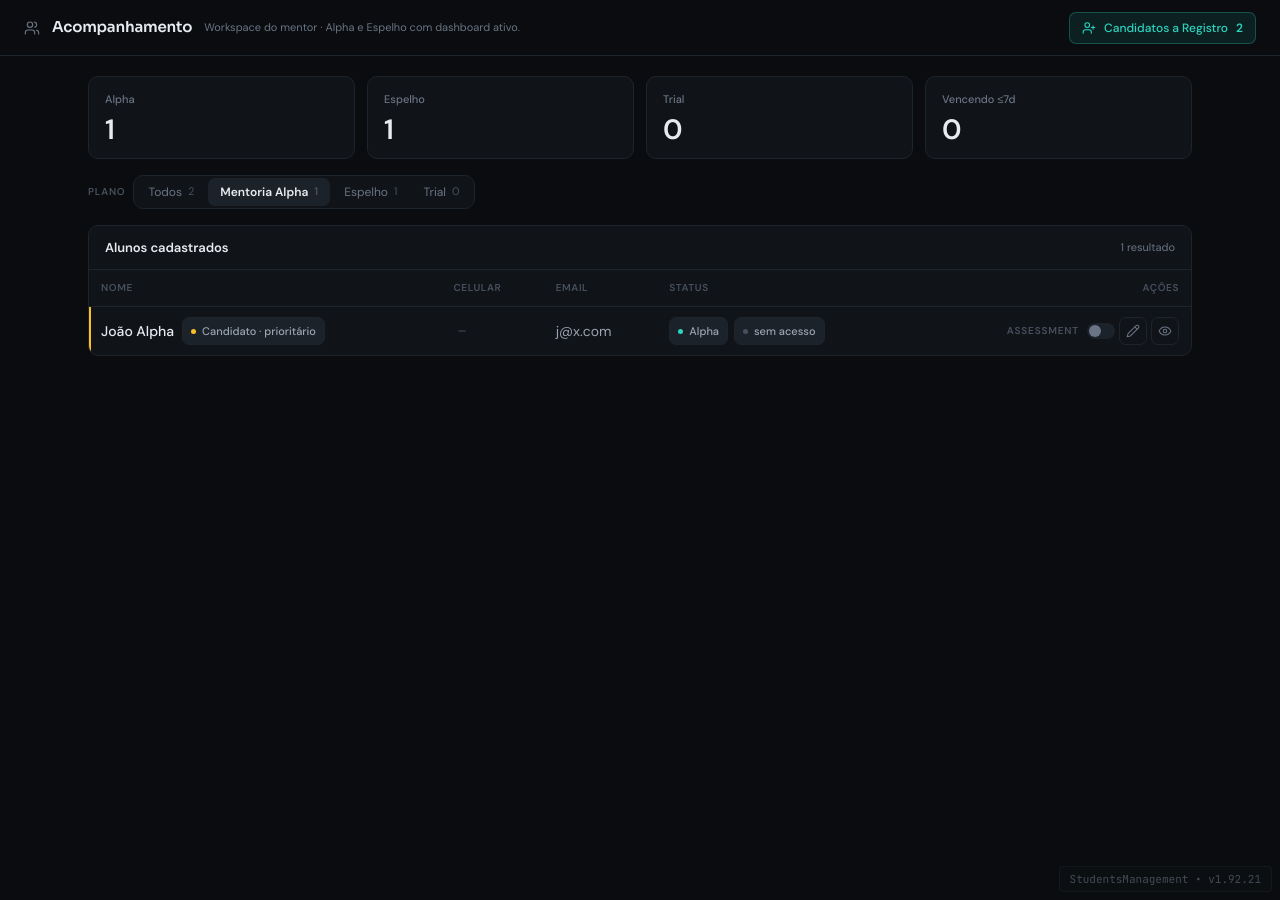
Test: StudentsManagement — 3 buckets (Alpha / Espelho / Trial) › abre filtrada em Alpha; Todos continua a um clique
Check: the text "João Alpha" is shown, box [101,321,174,341]
Check: the text "Mat Espelho" is not shown
What coordinates should you click on to do the following:
click the button "Todos 2"
I would click on:
 (171, 192)
Its box is [136,178,206,206].
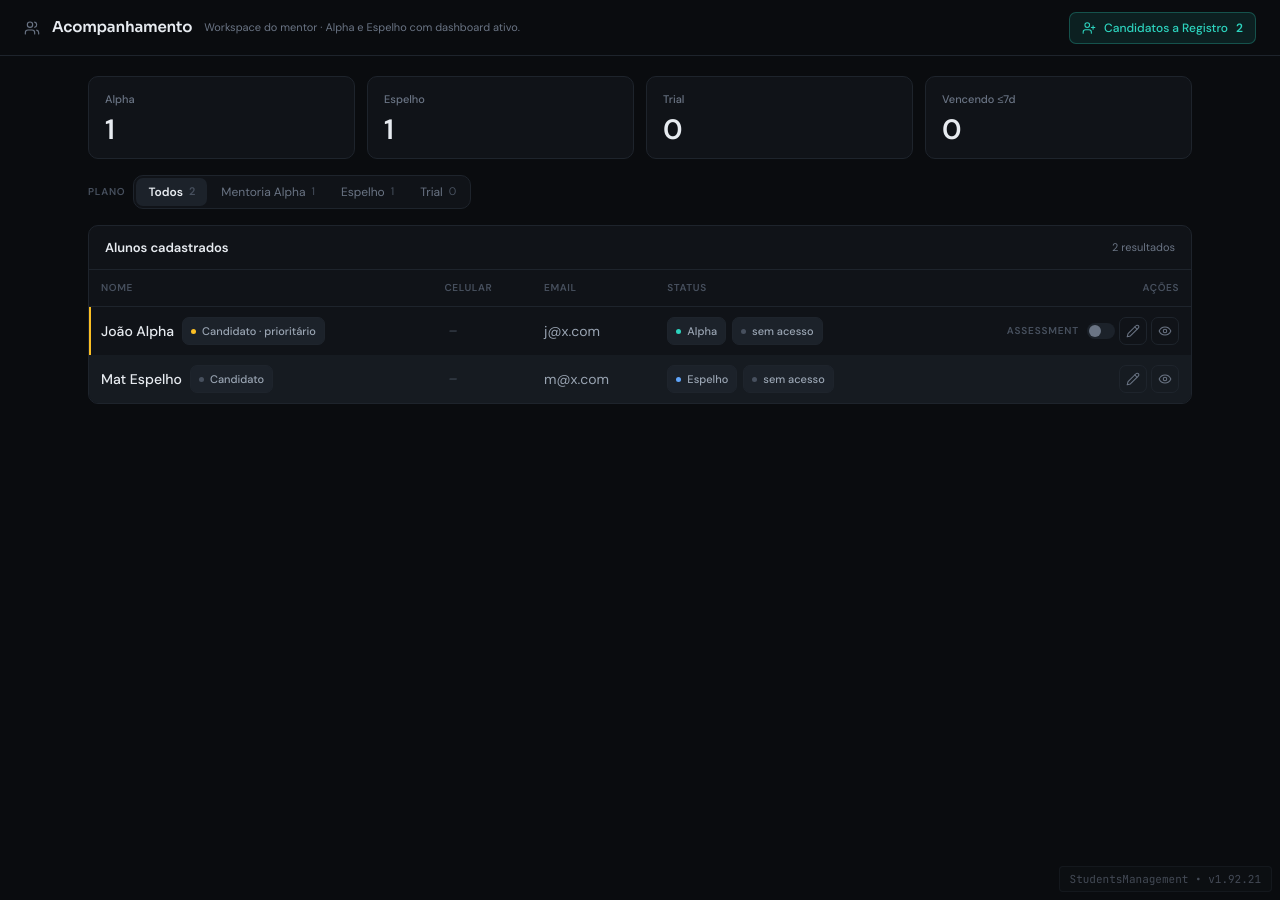
Check: the text "Mat Espelho" is shown, box [101,369,182,389]
